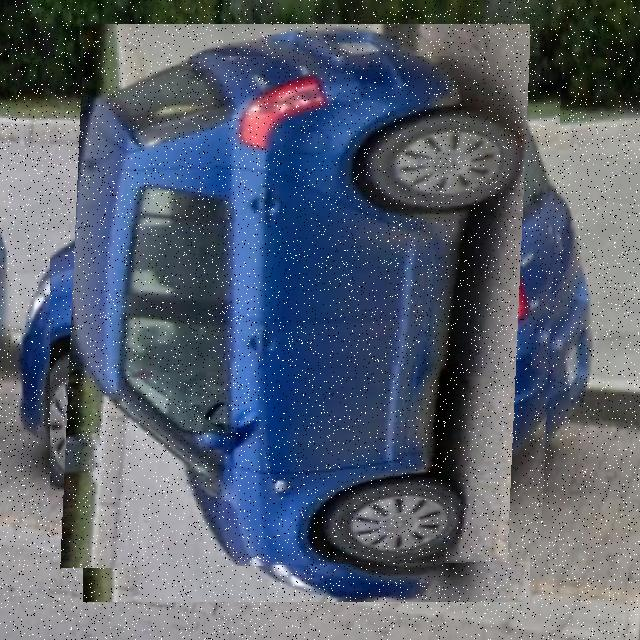car: (51, 57, 564, 570)
